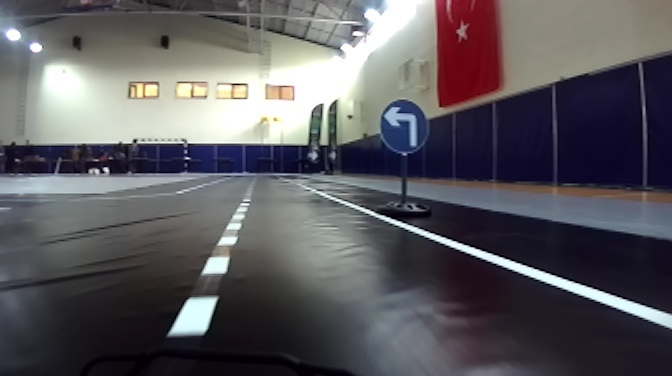sola_donus: (378, 99, 430, 151)
